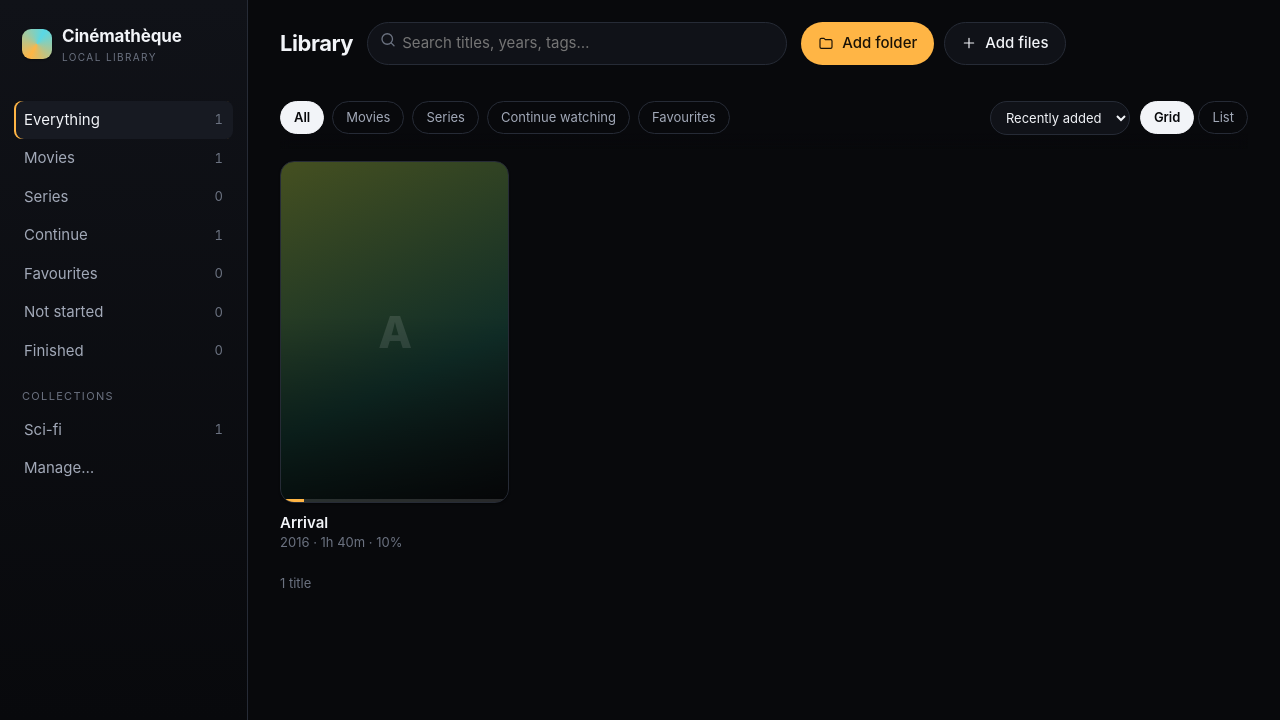
Test: app shell › closes the sheet on Escape
Click the button named "open arrival": click(394, 332) [280,160,508,503]
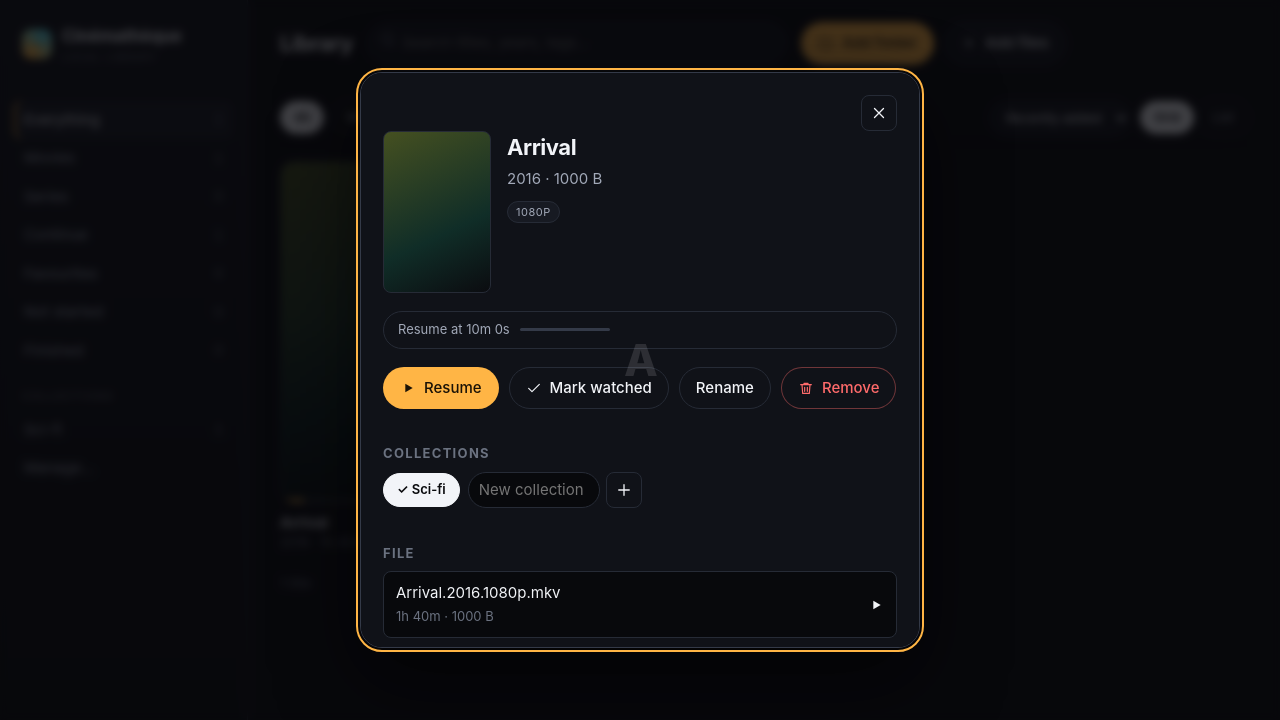
Expected: the dialog is shown, [360,72,920,648]
Press Escape
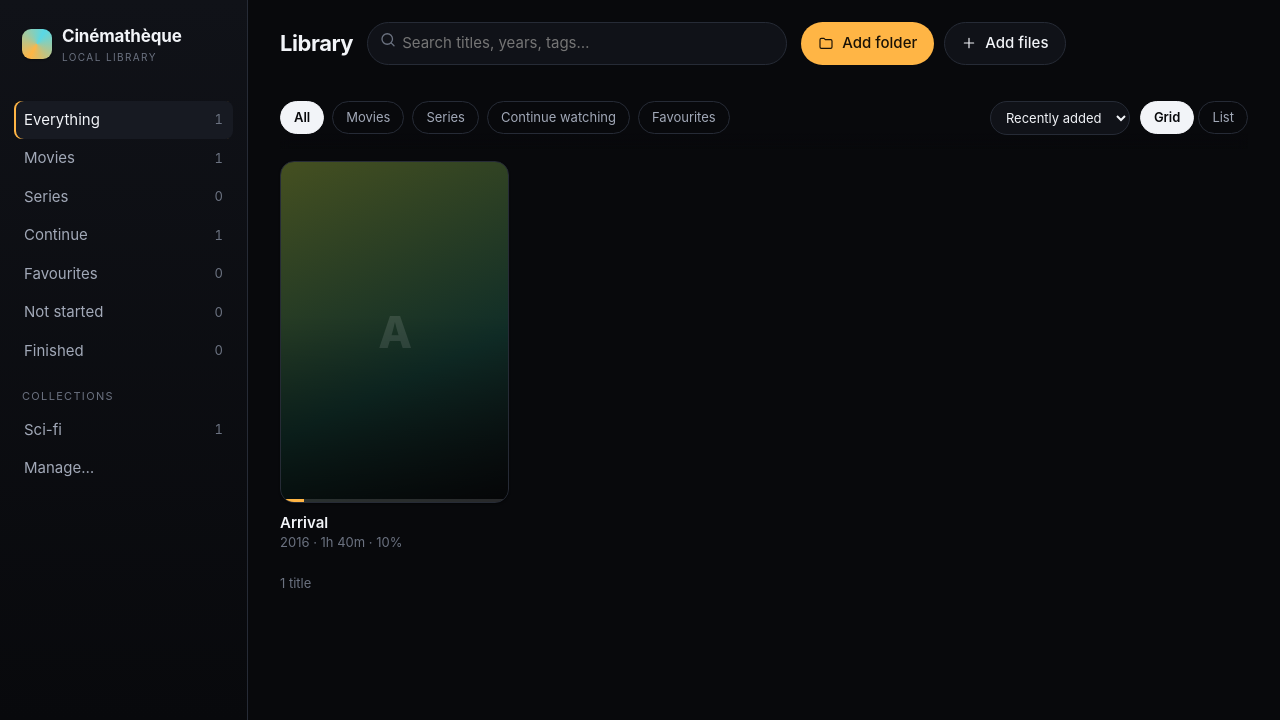
Expected: the dialog is gone
